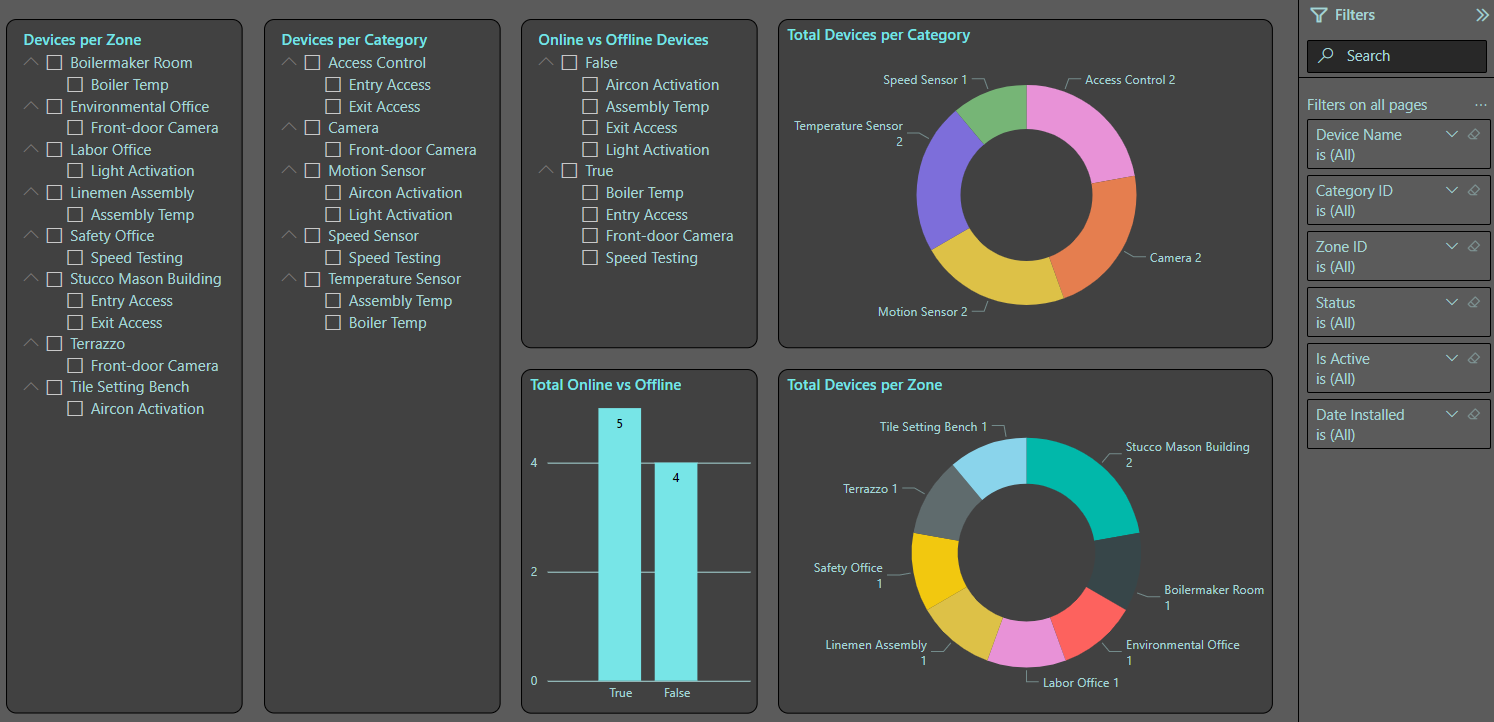

What the dashboard file says about the page in this screenshot:
{"tool":"powerbi","page":{"name":"Device Monitoring","canvas":[1280,720],"ordinal":1},"visuals":[{"type":"slicer","fields":{"Values":["Zone.ZoneName","Device.Device Name"]},"box":[24,20,230,675],"z":0},{"type":"slicer","fields":{"Values":["Device.Is Active","Device.Device Name"]},"box":[525,20,230,320],"z":1000},{"type":"slicer","fields":{"Values":["Device.Category ID","Device.Device Name"]},"box":[275,20,230,675],"z":2000},{"type":"columnChart","title":"Total Online vs Offline","fields":{"Category":["Device.Is Active"],"Y":["CountNonNull(Device.Is Active)"]},"box":[525,360,230,335],"z":3000},{"type":"donutChart","title":"Total Devices per Category","fields":{"Category":["Device.Category ID"],"Y":["CountNonNull(Device.Device Name)"]},"box":[774,20,481,320],"z":4000},{"type":"donutChart","title":"Total Devices per Zone","fields":{"Y":["CountNonNull(Device.Device Name)"],"Category":["Device.Zone ID"]},"box":[774,360,481,335],"z":5000}]}

Visuals, with their boxes in screenshot pixels (x1, y1, x2, y2):
slicer - Zone.ZoneName x Device.Device Name: box=[5, 17, 242, 710]
slicer - Device.Is Active x Device.Device Name: box=[520, 17, 756, 345]
slicer - Device.Category ID x Device.Device Name: box=[263, 17, 499, 710]
"Total Online vs Offline" columnChart: box=[520, 366, 756, 710]
"Total Devices per Category" donutChart: box=[776, 17, 1270, 345]
"Total Devices per Zone" donutChart: box=[776, 366, 1270, 710]
